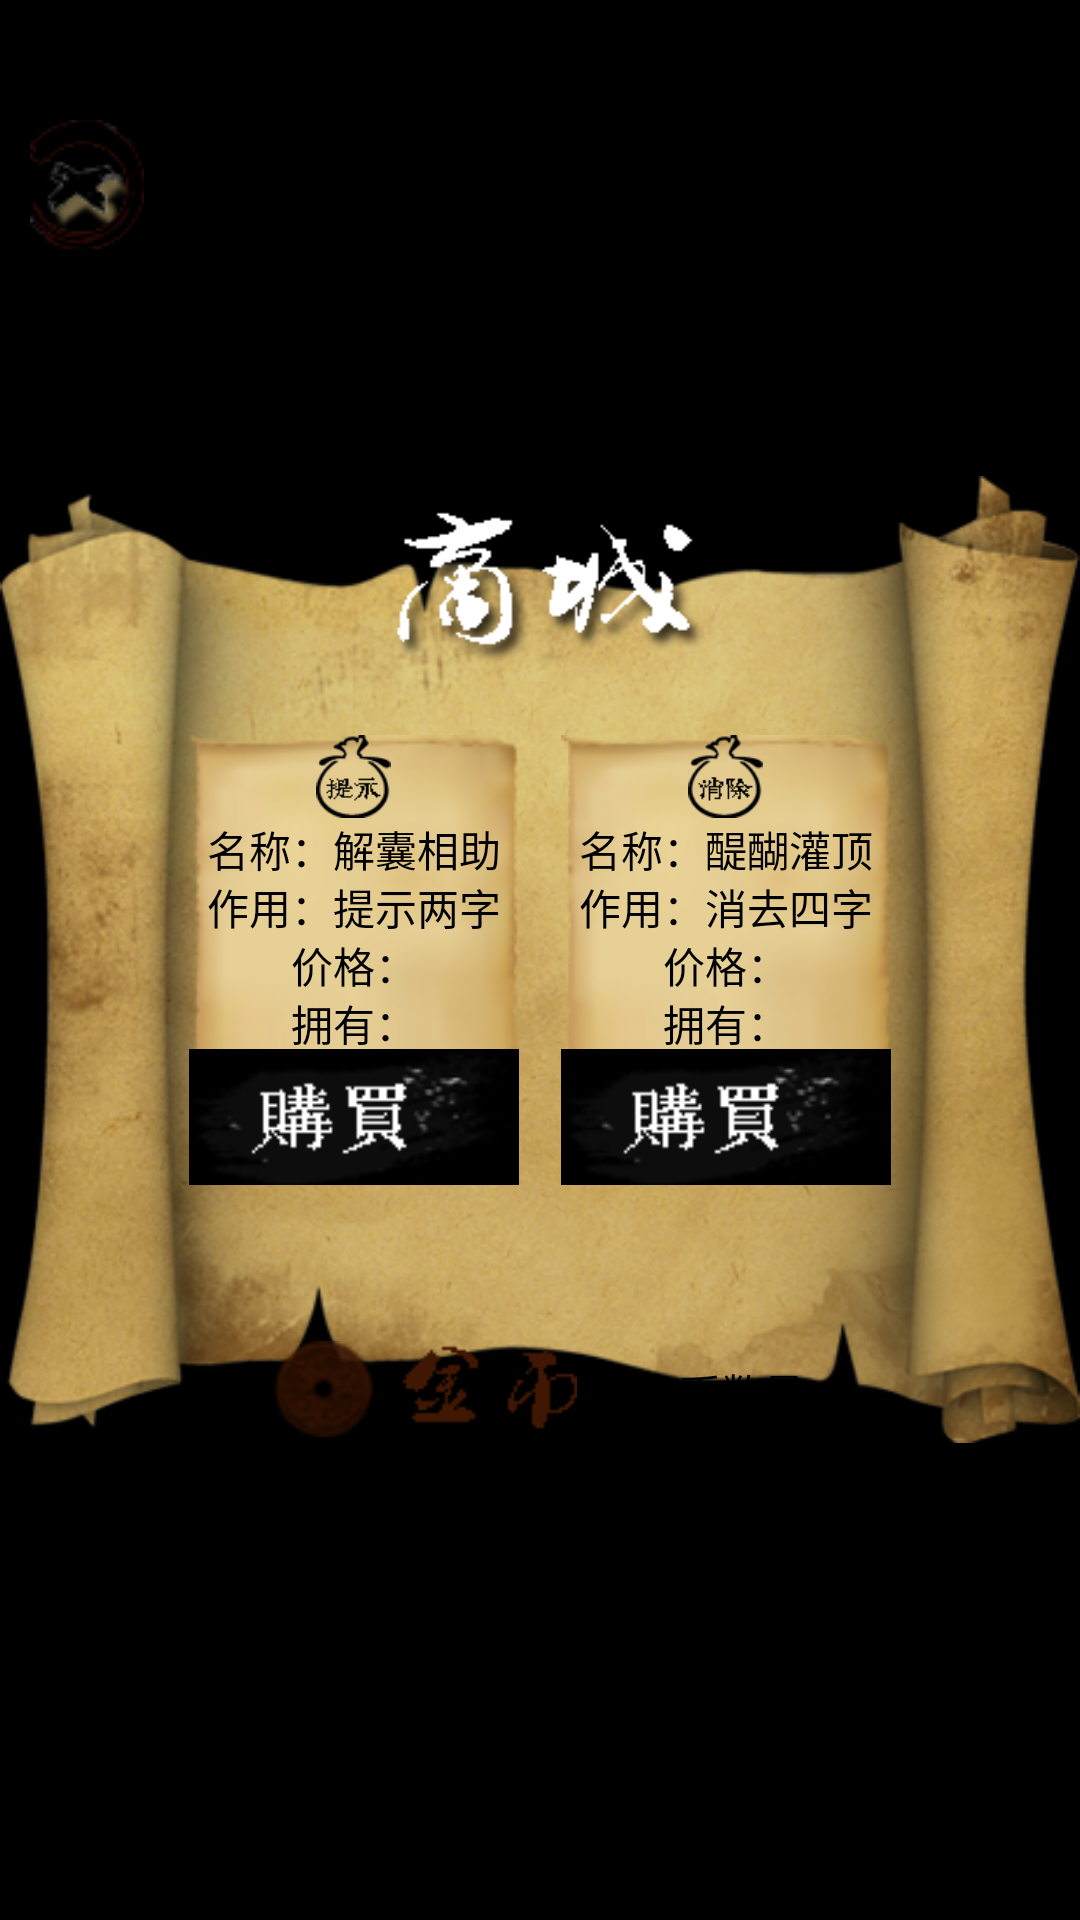

Locate icon controls on the screen. Image size 1080 x 1920, boxes as (x1, y1, x2, y2).
closewin: (30, 120, 144, 249)
